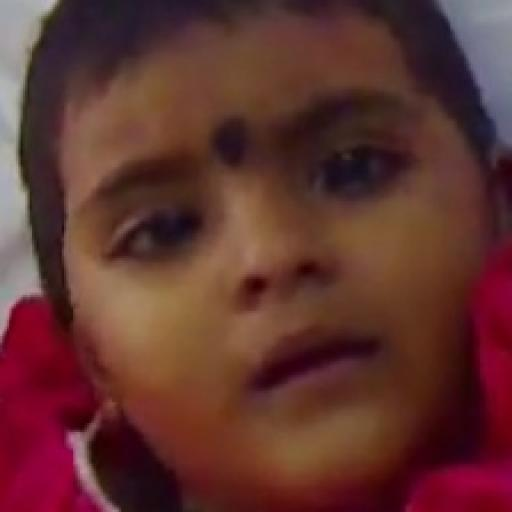Autism: (29, 22, 512, 509)
